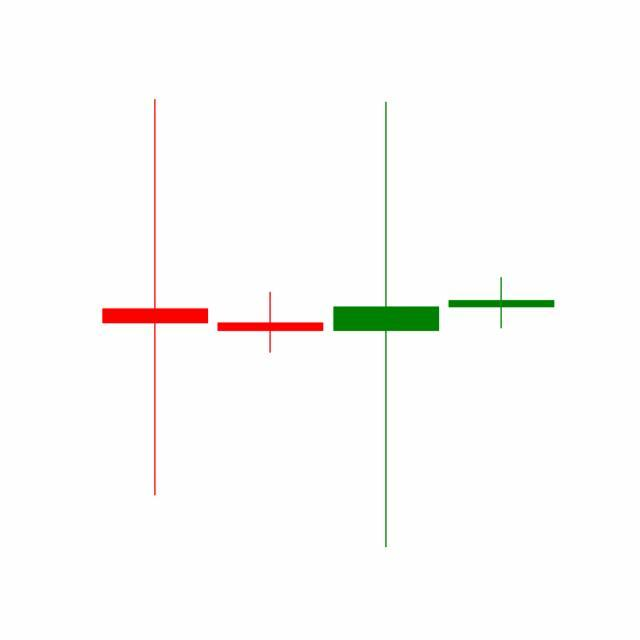Spinning Top: (444, 277, 560, 330)
